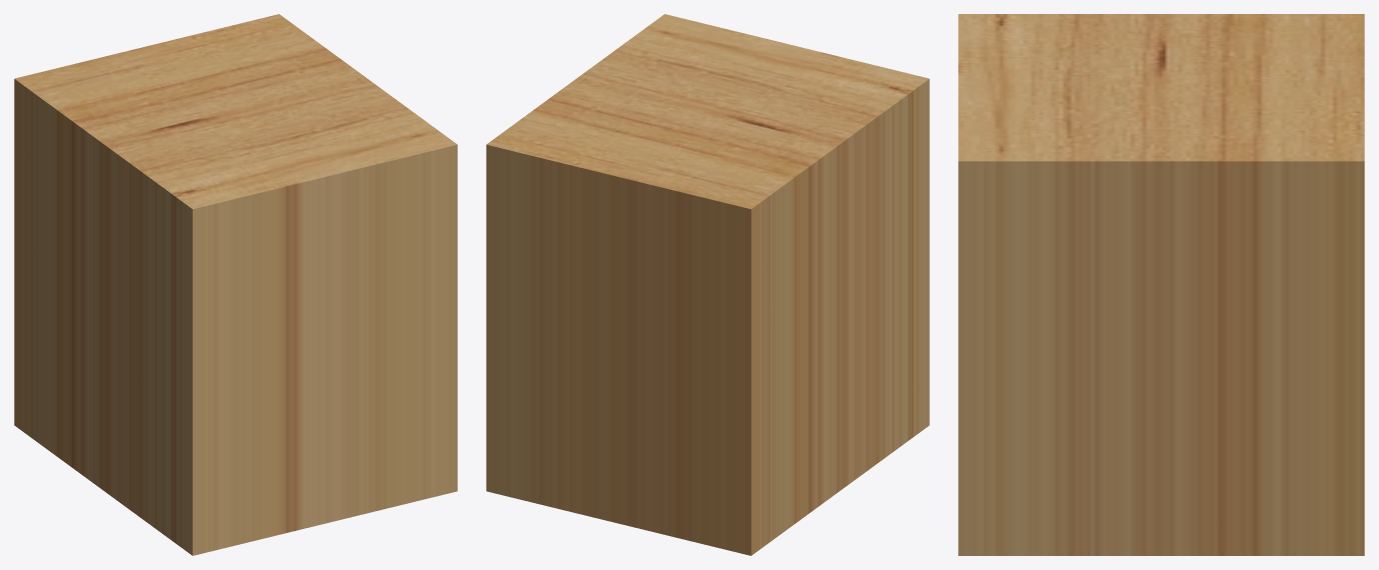
The model's file is poot_links_achter.obj.
3 renders of one model, left to right at view 1: azimuth 30°, elevation 25°; view 2: azimuth 150°, elevation 25°; view 3: azimuth 270°, elevation 25°, orthographic. The views are drawn at different scales.
Visible parts, largest first — view 1: Poot_rechts_voor; view 2: Poot_rechts_voor; view 3: Poot_rechts_voor.
Part boxes in pixels (x1,y1,x2,y2): Poot_rechts_voor: (14, 14, 457, 555); Poot_rechts_voor: (486, 14, 929, 555); Poot_rechts_voor: (958, 14, 1364, 555).
Size of the model in its own units: 0.4724 by 0.5906 by 0.5512.
Materials: 1 (1 with a texture image).
